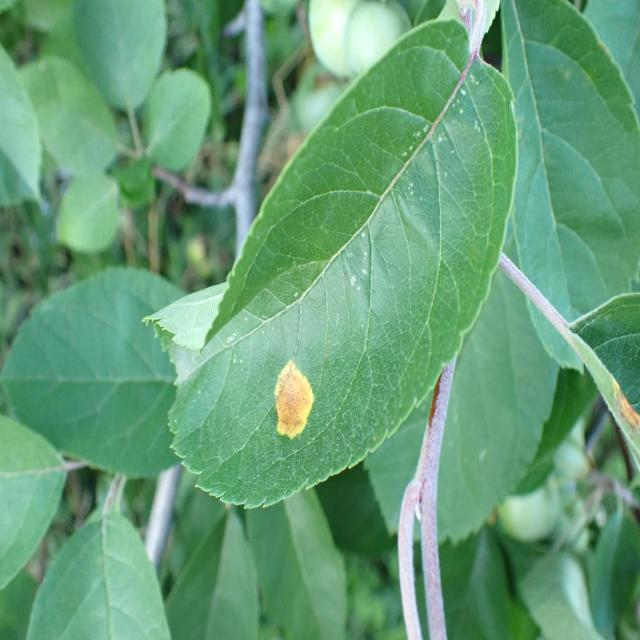rust: (141, 16, 518, 513)
